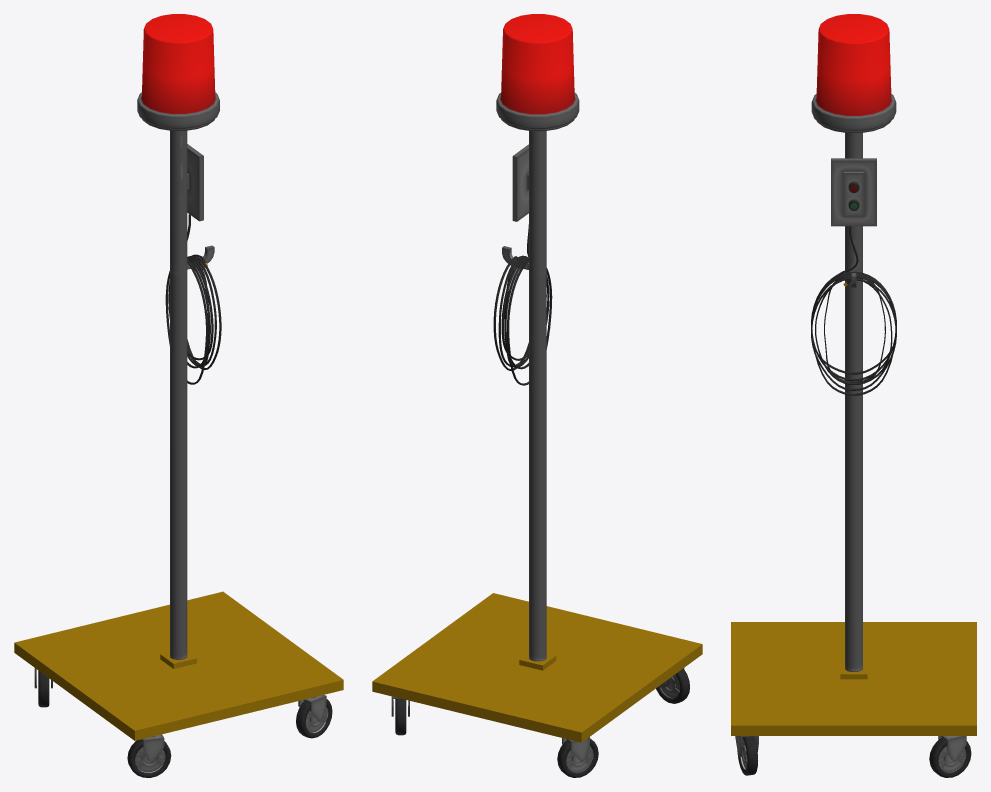
File: SM_Mobile_light_embedded 1.fbx
3 renders of one model, left to right at view 1: azimuth 30°, elevation 25°; view 2: azimuth 150°, elevation 25°; view 3: azimuth 270°, elevation 25°, orthographic.
Visible parts, largest first — view 1: SM_Mobile_light_chassis, SM_Mobile_light.001, SM_Mobile_light.002, SM_Mobile_light.011, SM_Mobile_light.007; view 2: SM_Mobile_light_chassis, SM_Mobile_light.001, SM_Mobile_light.002, SM_Mobile_light.009, SM_Mobile_light.011; view 3: SM_Mobile_light_chassis, SM_Mobile_light.001, SM_Mobile_light.002, SM_Mobile_light.003, SM_Mobile_light.007.
Boxes of the visible parts, left/top/right/bottom form: SM_Mobile_light_chassis: left=14, top=130, right=343, bottom=740; SM_Mobile_light.001: left=137, top=14, right=219, bottom=130; SM_Mobile_light.002: left=165, top=214, right=221, bottom=384; SM_Mobile_light.011: left=127, top=739, right=171, bottom=777; SM_Mobile_light.007: left=296, top=699, right=332, bottom=738; SM_Mobile_light_chassis: left=372, top=131, right=702, bottom=742; SM_Mobile_light.001: left=496, top=14, right=579, bottom=131; SM_Mobile_light.002: left=493, top=224, right=552, bottom=385; SM_Mobile_light.009: left=557, top=738, right=598, bottom=777; SM_Mobile_light.011: left=656, top=668, right=689, bottom=703; SM_Mobile_light_chassis: left=731, top=133, right=976, bottom=735; SM_Mobile_light.001: left=811, top=14, right=896, bottom=132; SM_Mobile_light.002: left=811, top=226, right=896, bottom=395; SM_Mobile_light.003: left=929, top=737, right=971, bottom=777; SM_Mobile_light.007: left=737, top=736, right=757, bottom=775.
Size of the model in its own units: 49.31 by 156 by 49.31.
Materials: 1 (1 with a texture image).
